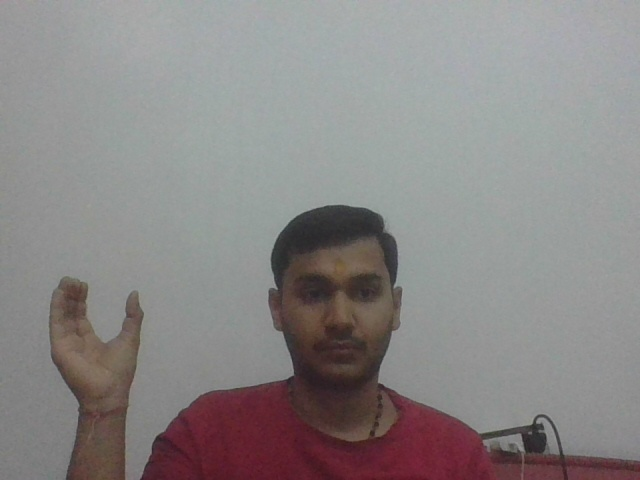U: (45, 273, 152, 401)
